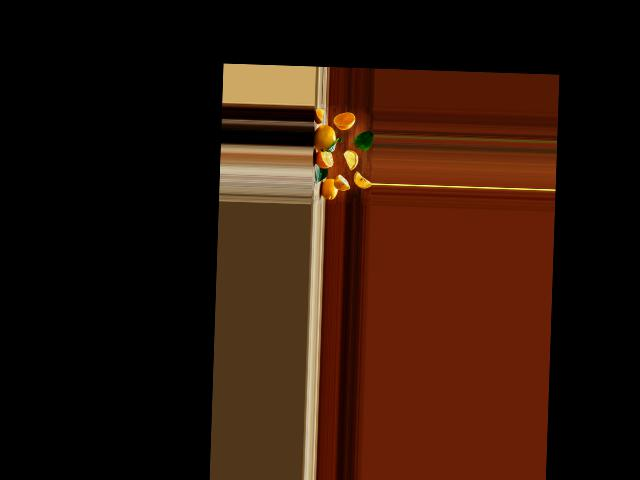lemon: (320, 177, 340, 202)
